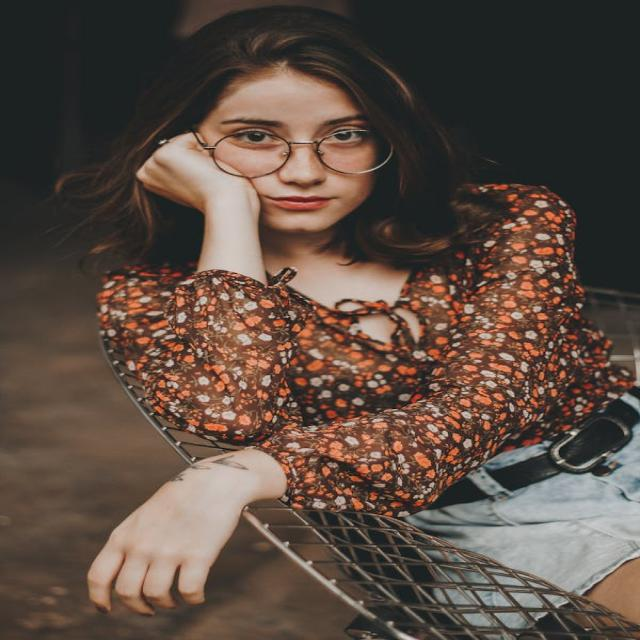no_mask: (176, 42, 426, 265)
